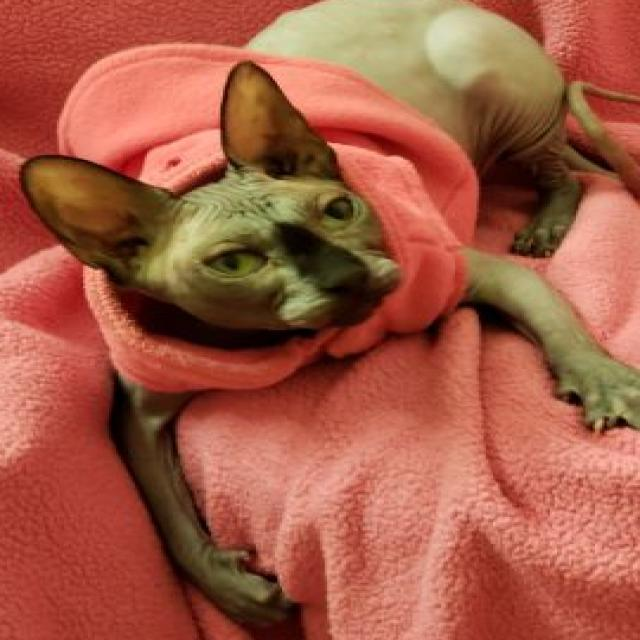Sphynx: (14, 0, 640, 632)
